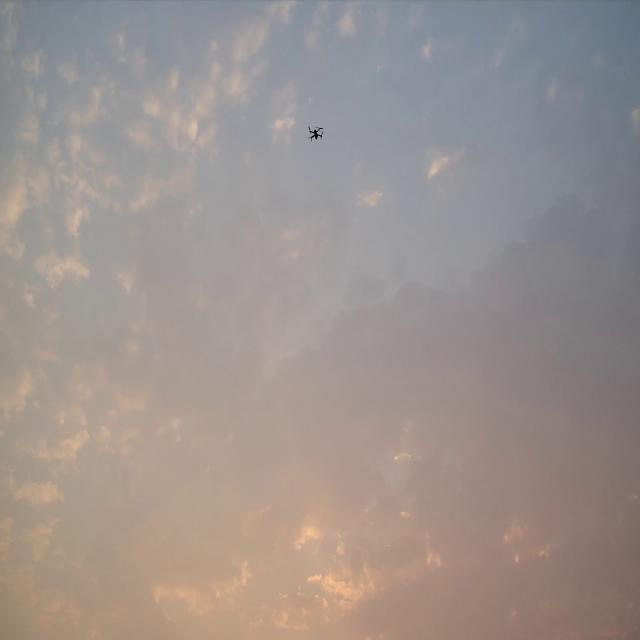UAV: (307, 125, 324, 141)
